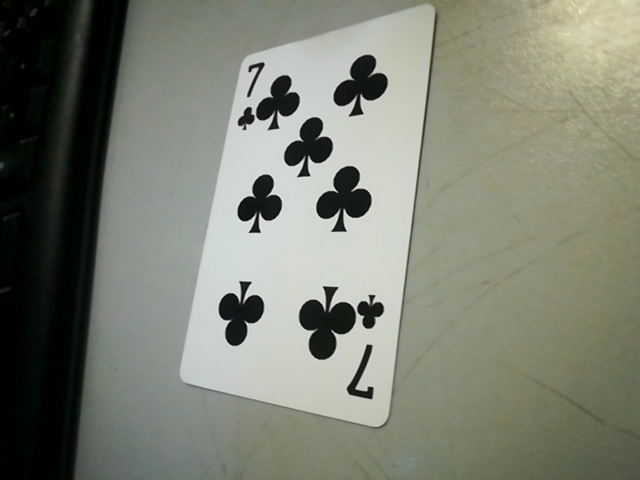mh 7: (344, 296, 390, 412)
